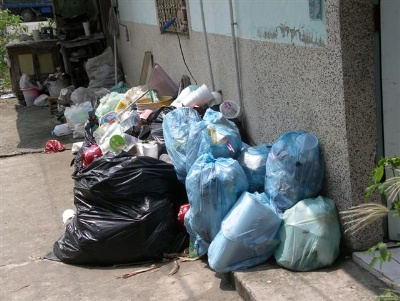bottle: (183, 84, 214, 108), (100, 135, 126, 154), (51, 122, 69, 137), (81, 21, 91, 37), (31, 29, 42, 42)
bucket: (19, 87, 39, 107)
plastic_bag: (55, 156, 183, 267), (185, 159, 249, 259), (209, 194, 283, 272), (163, 108, 241, 173), (264, 130, 325, 208), (282, 196, 342, 271), (85, 47, 113, 85), (67, 102, 92, 136)
plate: (148, 64, 178, 94)
